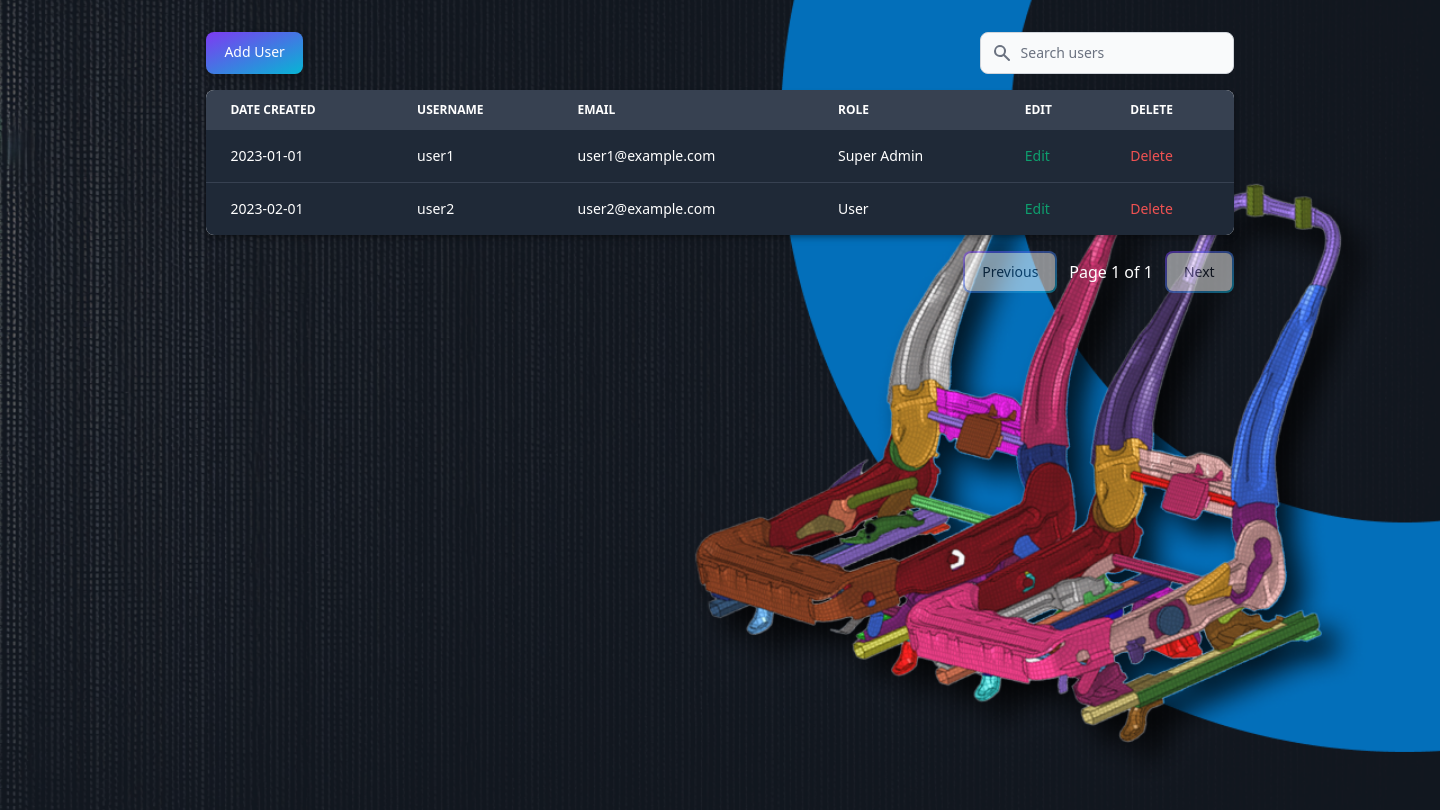
DashUsers Component › filters users when search input is used
Type "user1" into the field with placeholder "Search users". click: (1107, 53)
box: [980,32,1234,74]
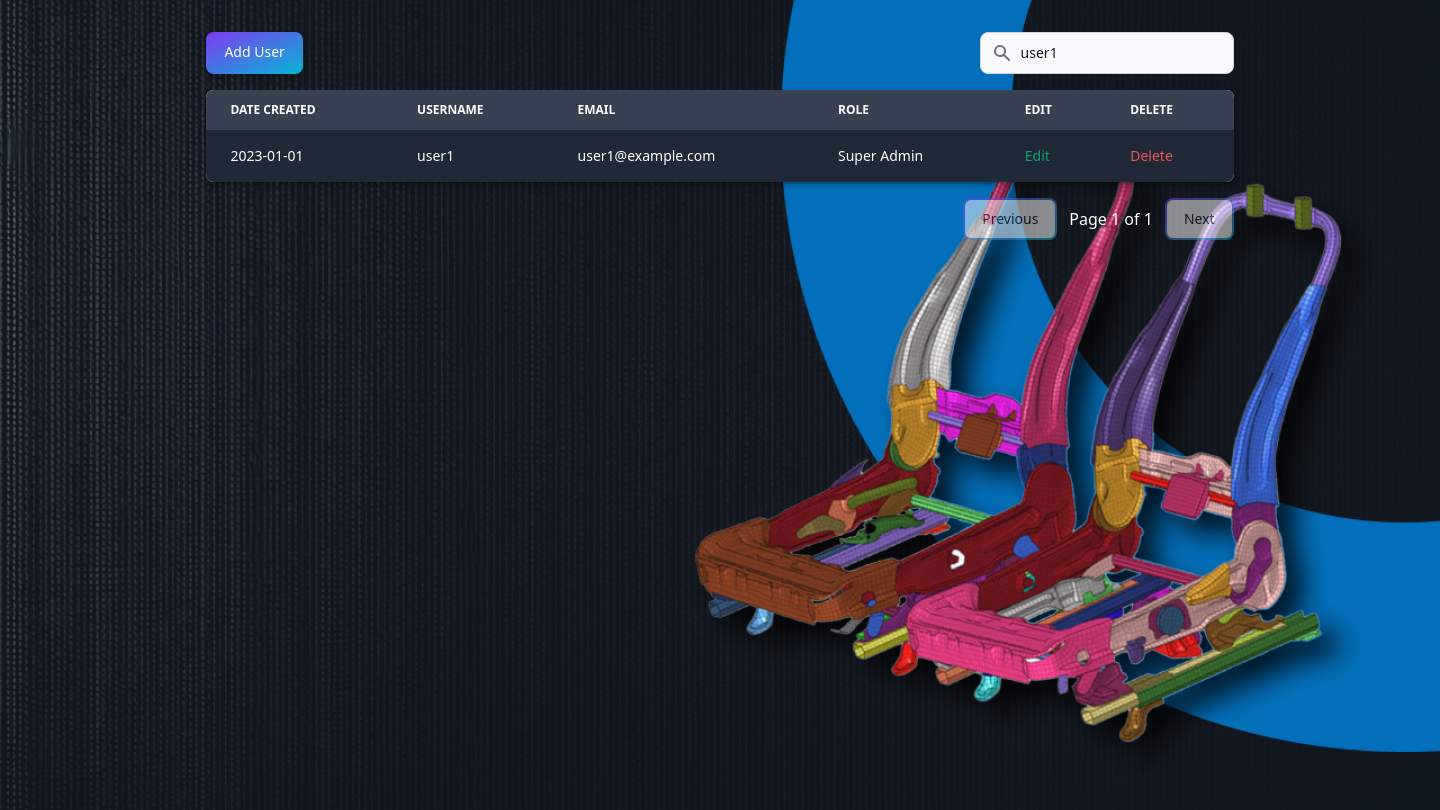
Expected: the text "user1" is shown, [393,130,554,182]
Expected: the text "user2" is gone
